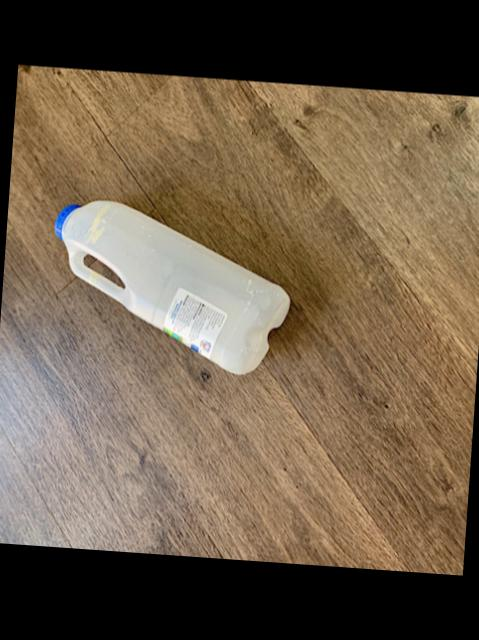plastic: (53, 199, 286, 372)
